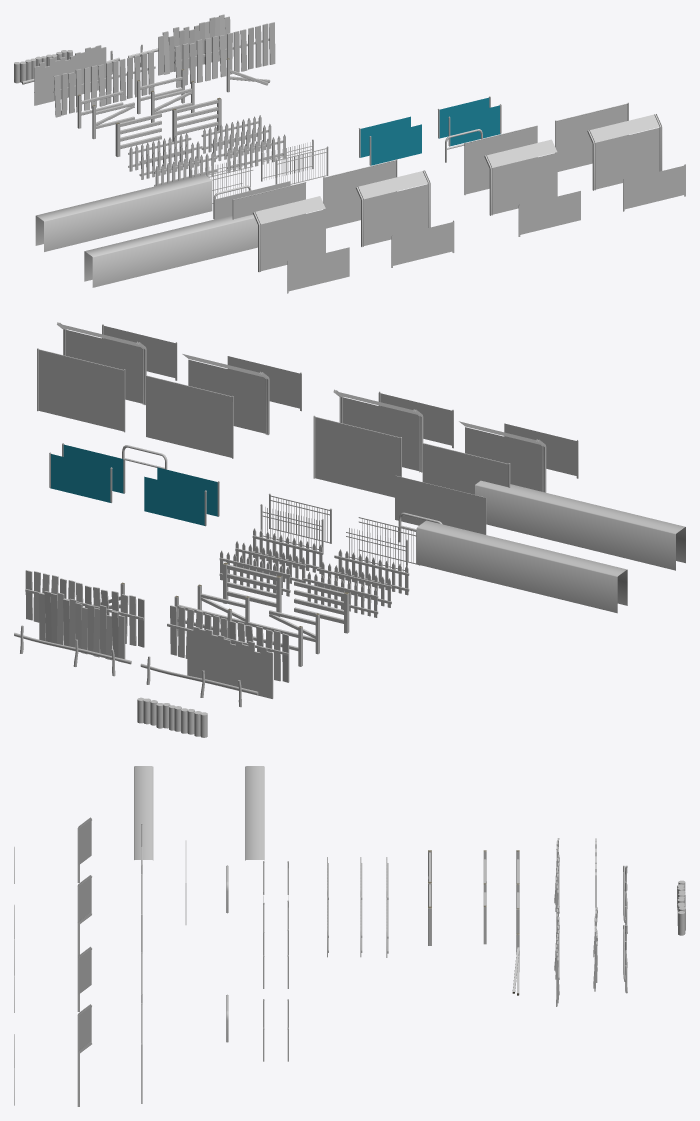
File: fence pack.FBX
3 renders of one model, top to bottom at view 1: azimuth 30°, elevation 25°; view 2: azimuth 150°, elevation 25°; view 3: azimuth 270°, elevation 25°, orthographic. The views are drawn at different scales.
Parts seen in each view (by area): view 1: low wall1, low wall2, chickenwire + barbed wire END green, chickenwire + barbed wire END, chickenwire + barbed wire green, chickenwire + barbed wire, Wood Fence 3 END, Wood Fence 3, chicken wire END, chicken wire END green, chicken wire green, Wood Fence 2 (+27 smaller); view 2: low wall1, low wall2, chicken wire END green, chicken wire green, chicken wire END, Wood Fence 2, Wood Fence 2 broken, chickenwire + barbed wire green, metal fence, chickenwire + barbed wire, chickenwire + barbed wire END, chickenwire + barbed wire END green (+28 smaller); view 3: low wall1, low wall2, chickenwire + barbed wire END green, chickenwire + barbed wire END, chickenwire + barbed wire, chickenwire + barbed wire green.
Part boxes in pixels (bbox=[...]): low wall1: bbox=[35, 174, 212, 251]; low wall2: bbox=[84, 214, 257, 287]; chickenwire + barbed wire END green: bbox=[587, 114, 662, 190]; chickenwire + barbed wire END: bbox=[356, 170, 430, 246]; chickenwire + barbed wire green: bbox=[484, 139, 557, 215]; chickenwire + barbed wire: bbox=[253, 196, 325, 272]; Wood Fence 3 END: bbox=[174, 22, 275, 87]; Wood Fence 3: bbox=[53, 51, 155, 117]; chicken wire END: bbox=[323, 159, 397, 228]; chicken wire END green: bbox=[555, 102, 628, 171]; chicken wire green: bbox=[464, 125, 537, 195]; Wood Fence 2: bbox=[34, 45, 106, 105]; low wall1: bbox=[416, 520, 627, 613]; low wall2: bbox=[475, 480, 685, 570]; chicken wire END green: bbox=[37, 348, 125, 432]; chicken wire green: bbox=[146, 375, 233, 458]; chicken wire END: bbox=[313, 415, 401, 497]; Wood Fence 2: bbox=[187, 626, 273, 698]; Wood Fence 2 broken: bbox=[38, 591, 125, 662]; chickenwire + barbed wire green: bbox=[182, 354, 269, 434]; metal fence: bbox=[395, 475, 486, 534]; chickenwire + barbed wire: bbox=[459, 421, 546, 492]; chickenwire + barbed wire END: bbox=[333, 389, 423, 472]; chickenwire + barbed wire END green: bbox=[57, 322, 146, 404]; low wall1: bbox=[245, 766, 264, 860]; low wall2: bbox=[134, 766, 153, 860]; chickenwire + barbed wire END green: bbox=[77, 1004, 91, 1106]; chickenwire + barbed wire END: bbox=[77, 875, 92, 956]; chickenwire + barbed wire: bbox=[77, 817, 91, 882]; chickenwire + barbed wire green: bbox=[77, 946, 91, 1011].
Bounding box in the file's own units: 130 × 14.99 × 121.
